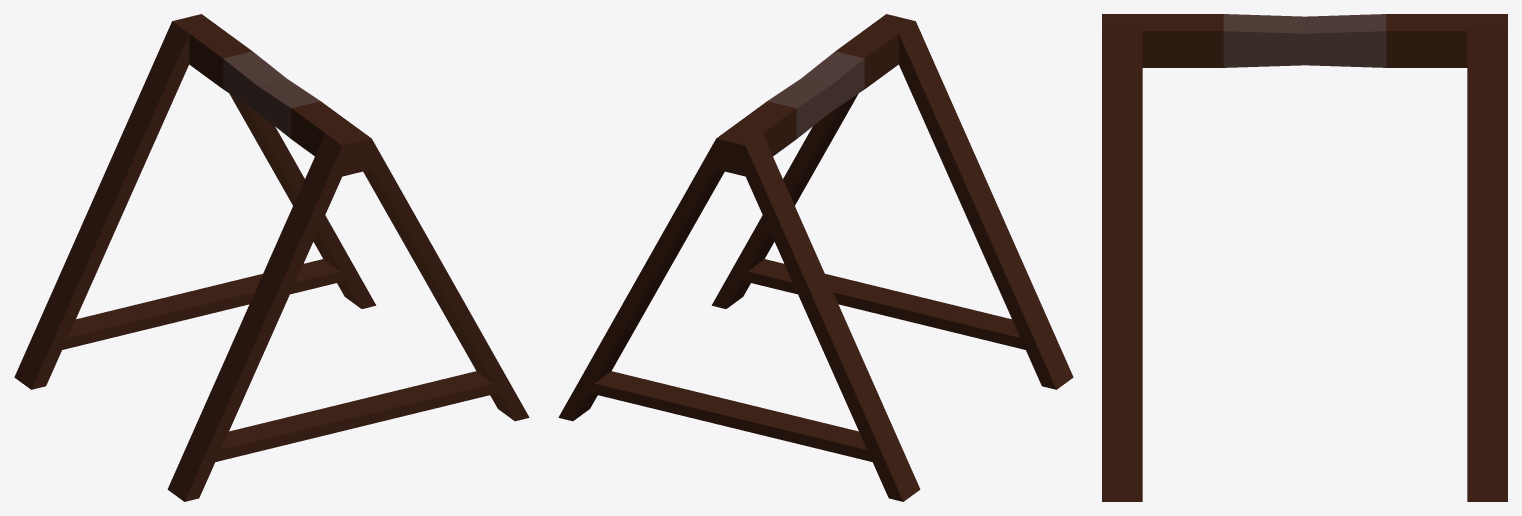
The model's file is SawHorse.fbx.
3 renders of one model, left to right at view 1: azimuth 30°, elevation 25°; view 2: azimuth 150°, elevation 25°; view 3: azimuth 270°, elevation 25°, orthographic. The views are drawn at different scales.
Parts seen in each view (by area): view 1: Sawhorse; view 2: Sawhorse; view 3: Sawhorse.
Boxes of the visible parts, bbox=[...] form: Sawhorse: bbox=[14, 14, 529, 501]; Sawhorse: bbox=[558, 14, 1073, 501]; Sawhorse: bbox=[1102, 14, 1507, 501].
Bounding box in the file's own units: 83.64 × 73.57 × 71.43.
